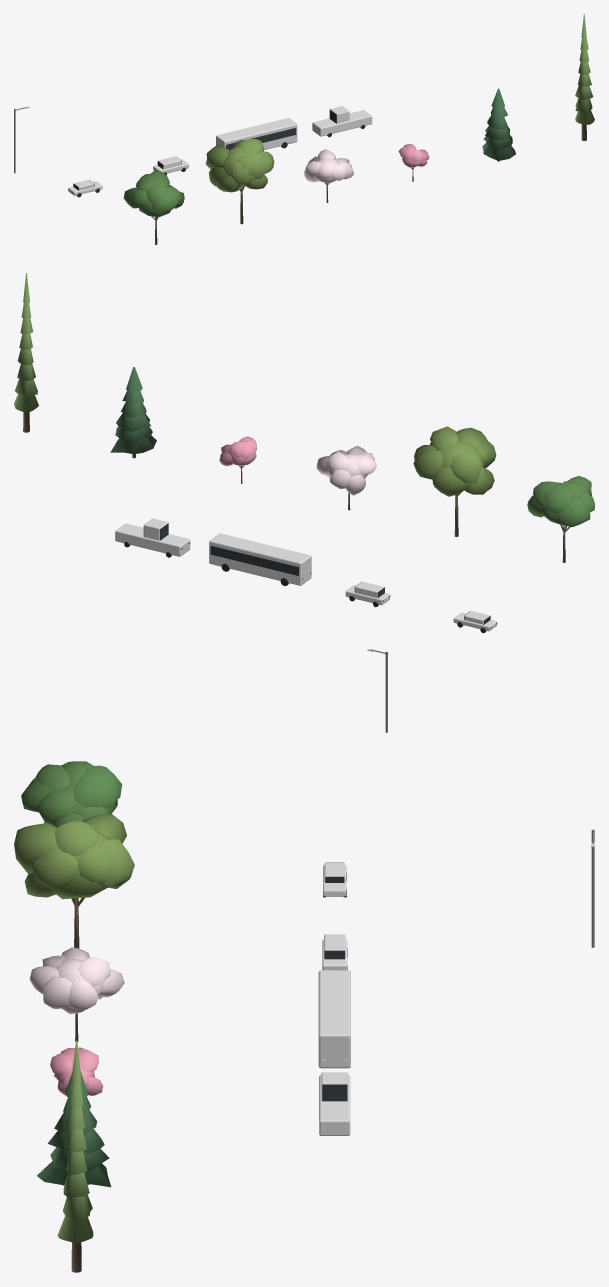
Rendered from props.glb.
3 views of the same model, one above another, from view 1: azimuth 30°, elevation 25°; view 2: azimuth 150°, elevation 25°; view 3: azimuth 270°, elevation 25° (orthographic). The views are drawn at different scales.
Parts seen in each view (by area): view 1: TREE_1, TREE_0, CAR_2, TREE_4, TREE_5, TREE_2, CAR_3, TREE_3, CAR_1, CAR_0; view 2: TREE_1, CAR_2, TREE_0, TREE_4, TREE_2, TREE_5, CAR_3, TREE_3, CAR_1, CAR_0; view 3: TREE_1, TREE_0, TREE_2, TREE_5, CAR_2, TREE_4, CAR_3, TREE_3, CAR_1, CAR_0.
Boxes of the visible parts, x1,y1,x2,y2 form: TREE_1: [205, 138, 274, 224]; TREE_0: [123, 170, 184, 244]; CAR_2: [216, 118, 297, 149]; TREE_4: [482, 88, 515, 161]; TREE_5: [575, 14, 594, 140]; TREE_2: [304, 149, 353, 202]; CAR_3: [312, 106, 372, 137]; TREE_3: [398, 144, 429, 181]; CAR_1: [153, 156, 188, 175]; CAR_0: [68, 179, 102, 197]; TREE_1: [413, 426, 496, 536]; CAR_2: [209, 533, 311, 585]; TREE_0: [527, 476, 594, 562]; TREE_4: [110, 367, 156, 458]; TREE_2: [316, 446, 376, 510]; TREE_5: [14, 273, 38, 432]; CAR_3: [115, 518, 190, 557]; TREE_3: [219, 436, 256, 483]; CAR_1: [345, 581, 390, 607]; CAR_0: [453, 611, 497, 633]; TREE_1: [14, 813, 134, 948]; TREE_0: [21, 761, 122, 827]; TREE_2: [29, 947, 124, 1041]; TREE_5: [57, 1040, 93, 1272]; CAR_2: [318, 970, 350, 1068]; TREE_4: [37, 1070, 111, 1187]; CAR_3: [319, 1072, 350, 1135]; TREE_3: [50, 1047, 103, 1095]; CAR_1: [322, 934, 347, 970]; CAR_0: [323, 862, 346, 897].
Size of the model in its own units: 75.72 by 24.66 by 45.01.
